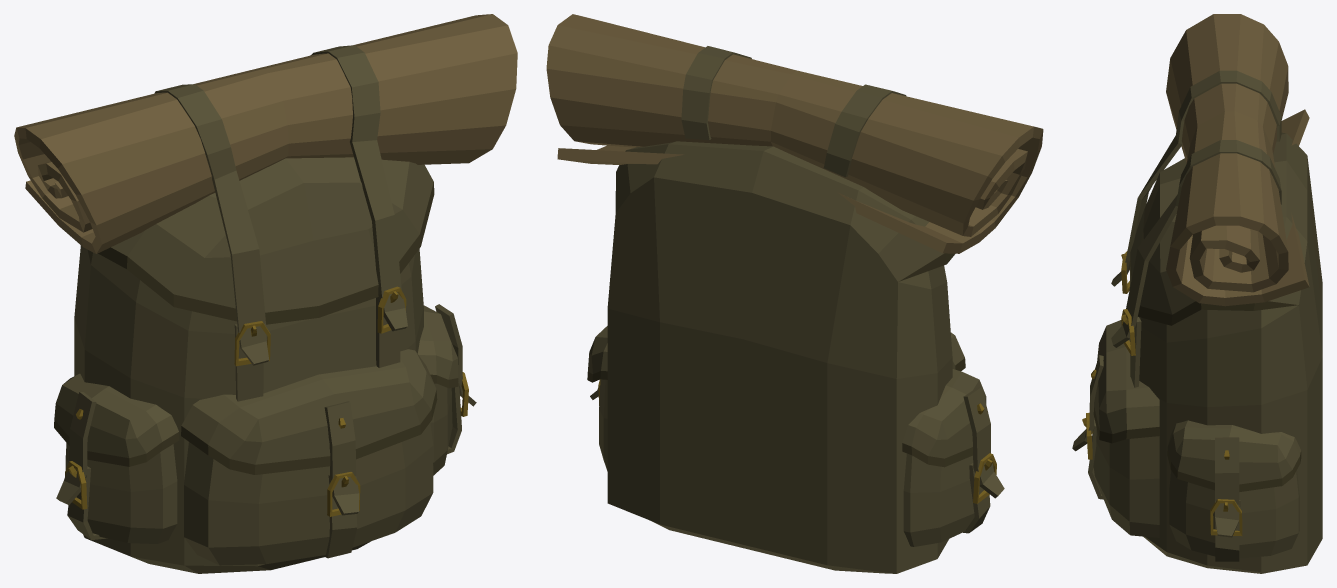
Rendered from Backpack.glb.
3 renders of one model, left to right at view 1: azimuth 30°, elevation 25°; view 2: azimuth 150°, elevation 25°; view 3: azimuth 270°, elevation 25°, orthographic. The views are drawn at different scales.
Parts seen in each view (by area): view 1: Backpack; view 2: Backpack; view 3: Backpack.
Boxes of the visible parts, x1,y1,x2,y2 form: Backpack: (14, 14, 517, 573); Backpack: (546, 14, 1043, 573); Backpack: (1072, 14, 1322, 573).
Size of the model in its own units: 3.34 by 3.12 by 1.75.
